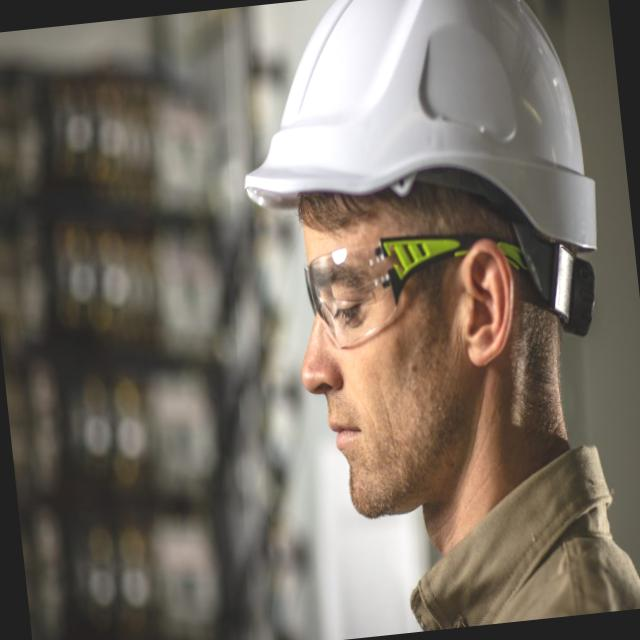goggles: (284, 225, 452, 338)
helmet: (246, 0, 585, 227)
no-vest: (372, 425, 640, 634)
